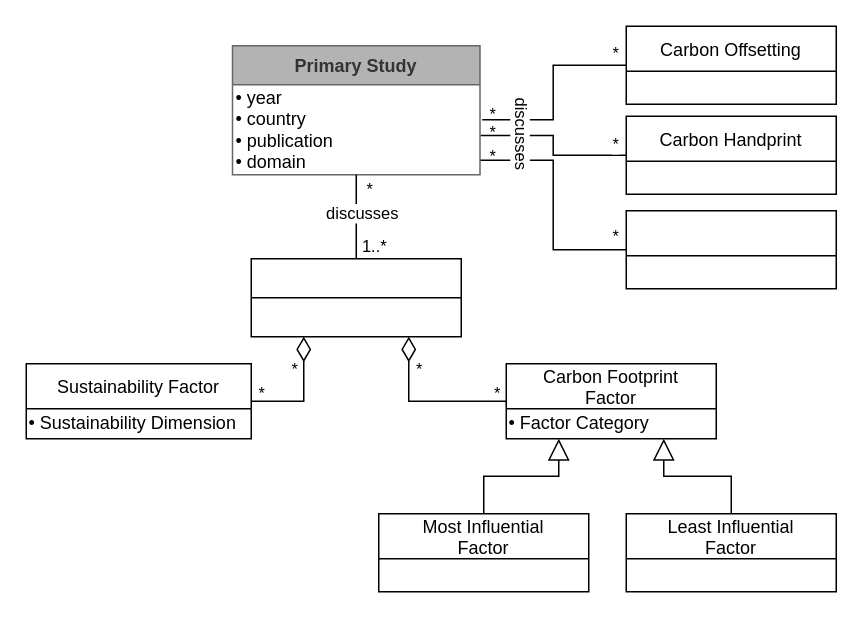
This 863x618 diagram has some shape labels left out. Here are the shapes that lost their labels. From the top down, the centre of each, then its label:
At (x=730, y=249): "Improvements / Suggestions".
At (x=355, y=297): "Conference Type".
